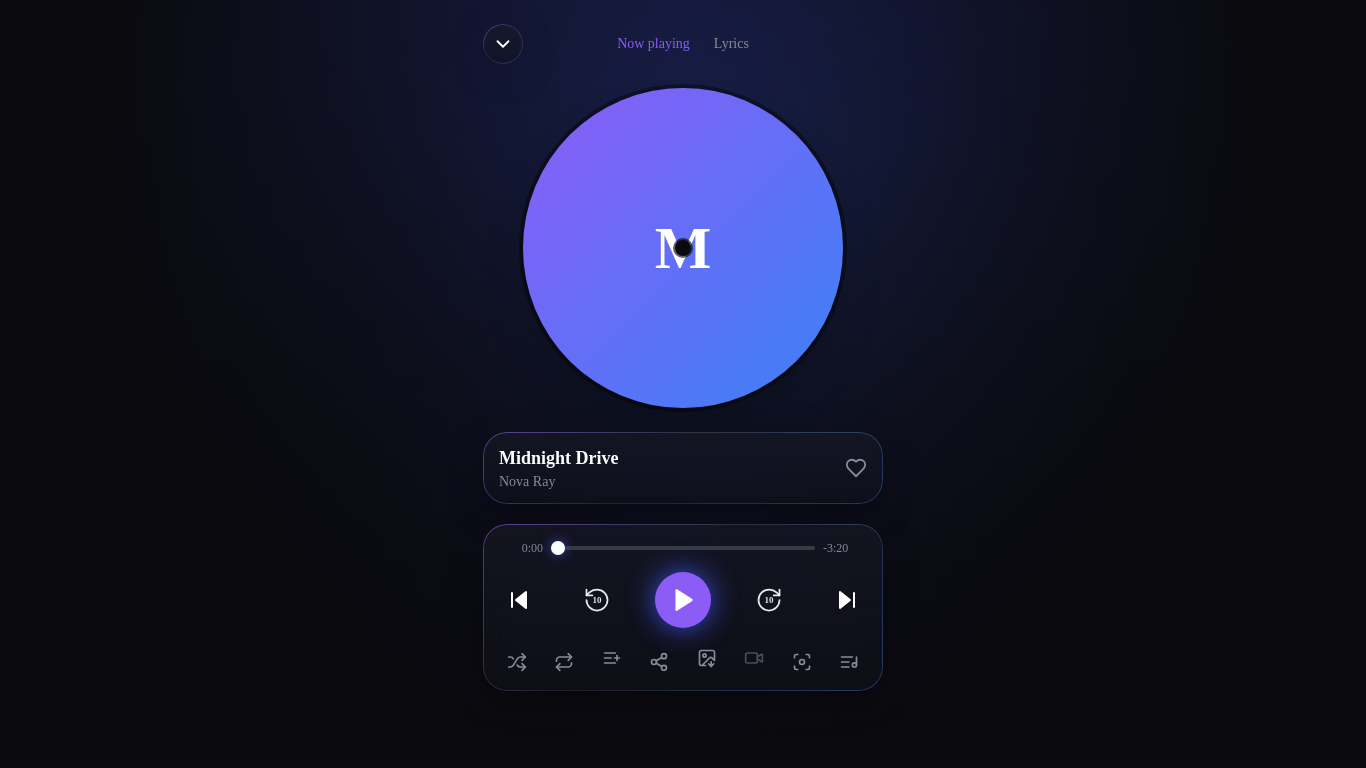
Test: FullScreenPlayer › toggles play/pause through the real player store when clicked
The width and height of the screenshot is (1366, 768).
Later steps or results of the test are not shown.
Click the button named "Play" at point(683, 600), box [655,572,711,628]
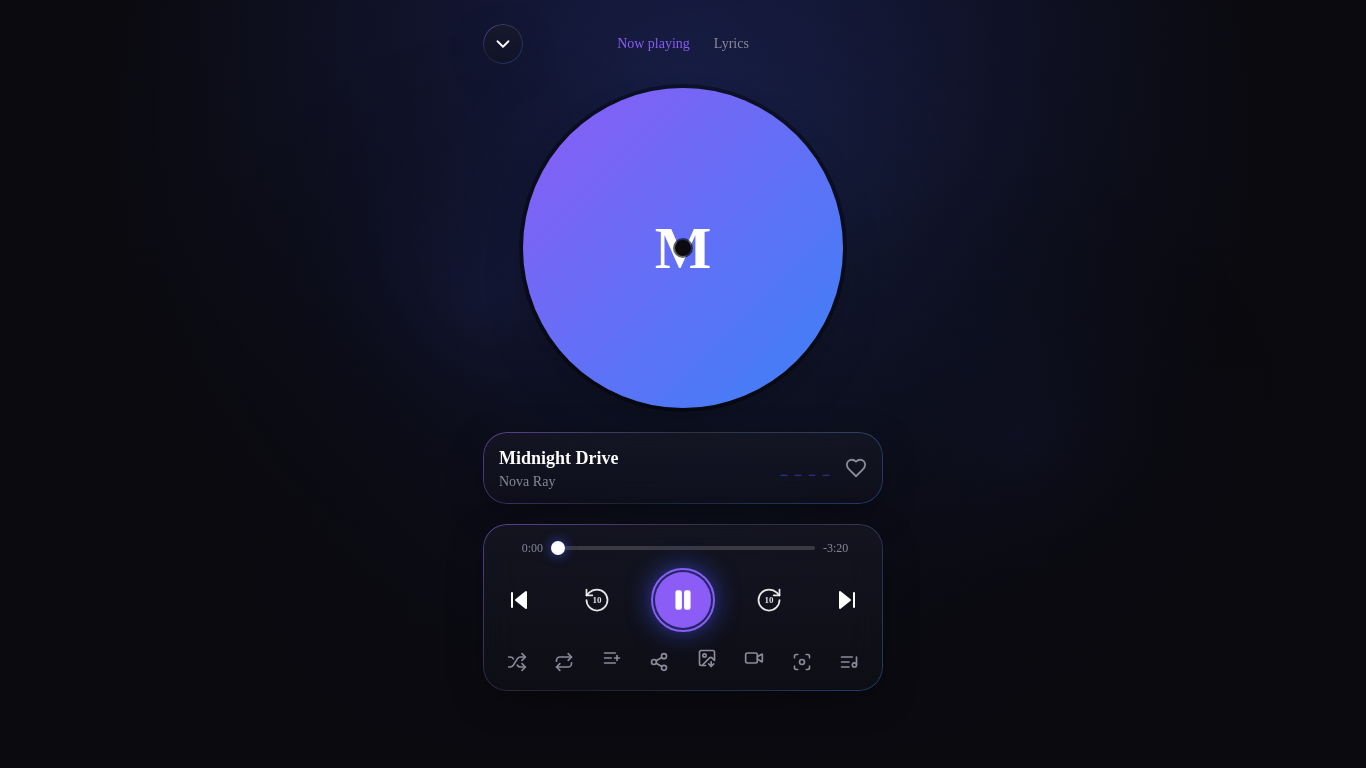
Expected: the button named "Pause" is shown, [655,572,711,628]
